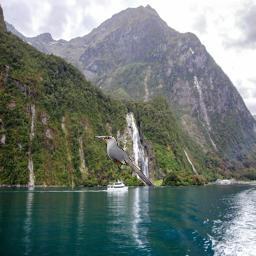Cuckoo: (94, 135, 155, 189)
